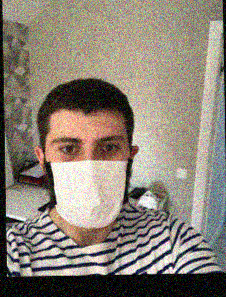with_mask: (42, 126, 131, 229)
